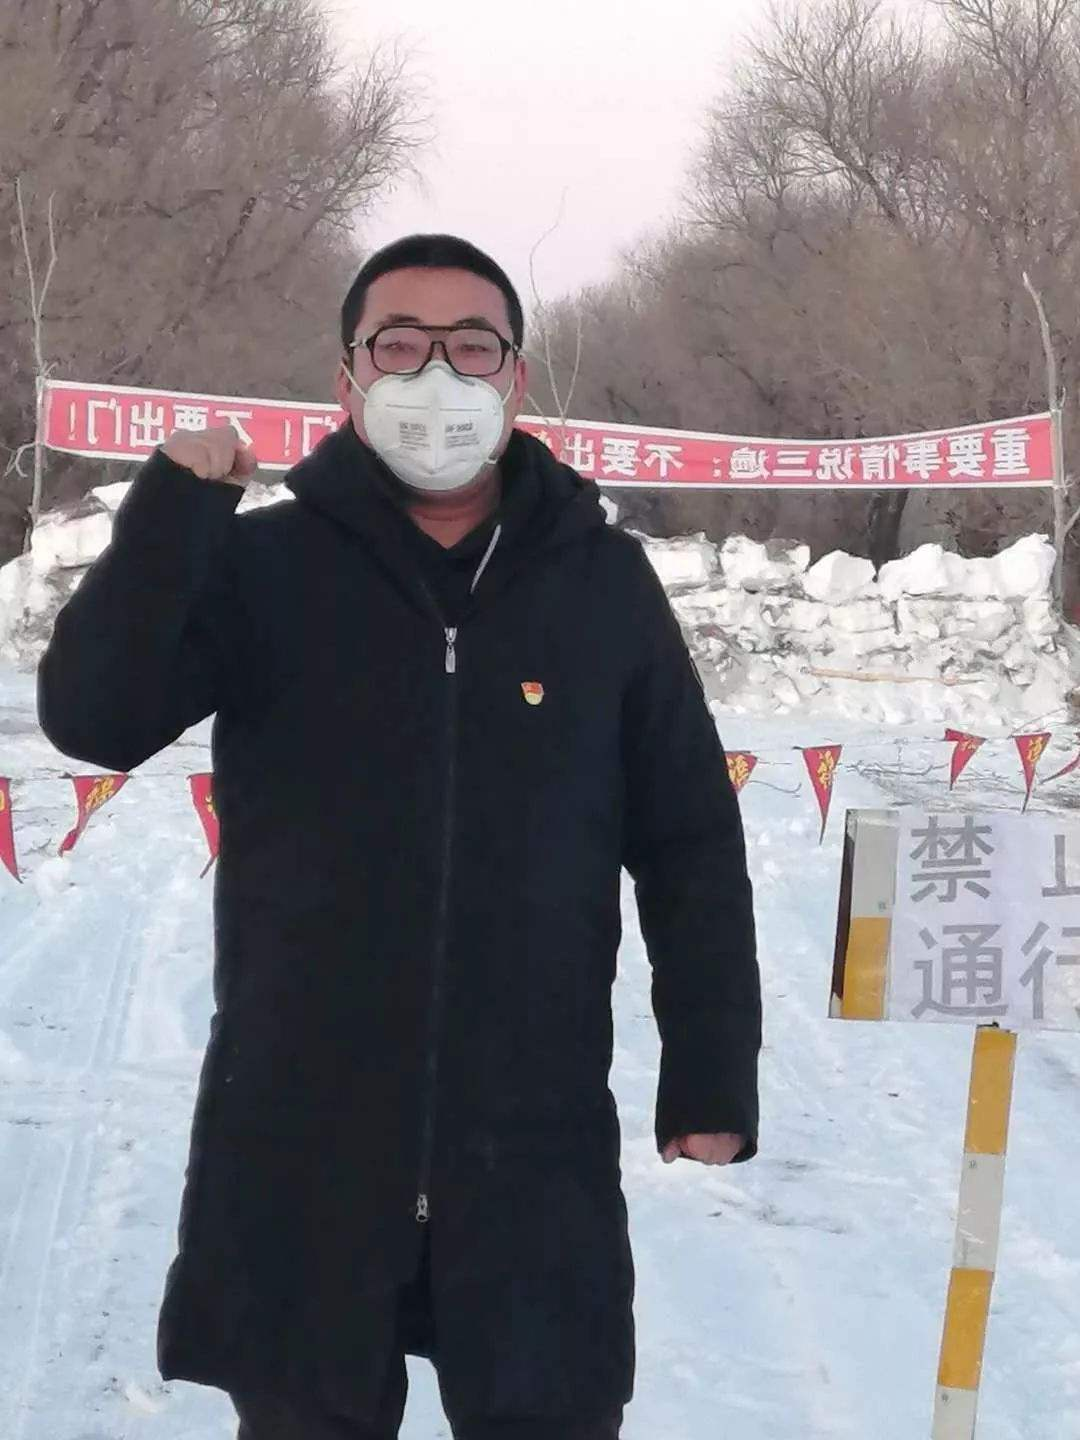Mask: (341, 266, 526, 501)
